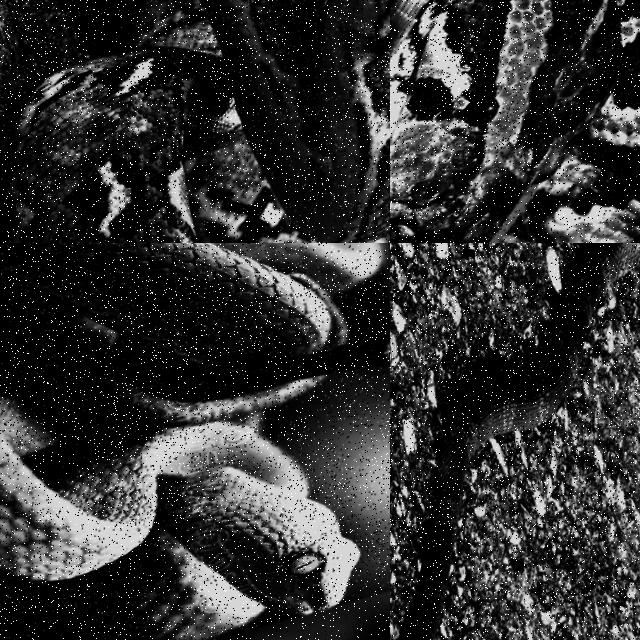Malayopython reticulatus: (5, 0, 389, 242)
Naja siamensis: (406, 243, 639, 639)
Python bivittatus: (390, 0, 639, 242)
Trimeresurus macrops: (0, 243, 382, 639)
snake: (0, 243, 382, 639), (5, 0, 389, 242), (406, 243, 639, 639), (390, 0, 639, 242)
